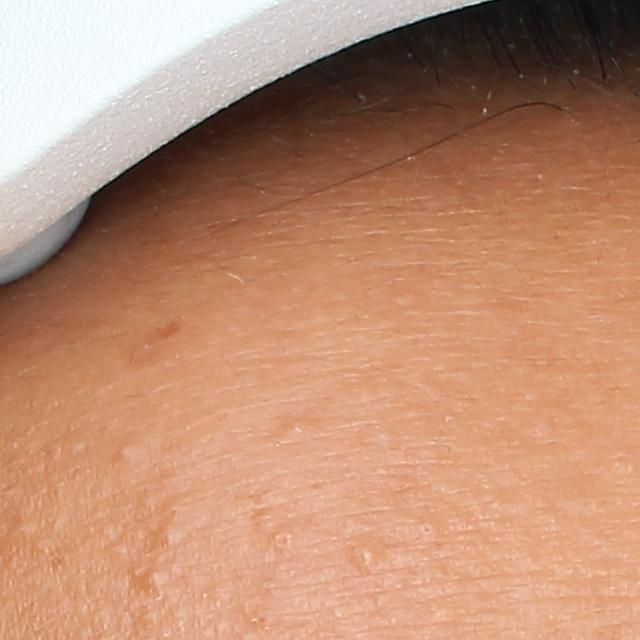comedo: (352, 541, 379, 572), (280, 417, 312, 442), (153, 522, 184, 545), (270, 526, 295, 551), (5, 522, 36, 541), (115, 441, 140, 462), (145, 568, 165, 589), (418, 522, 436, 538)
